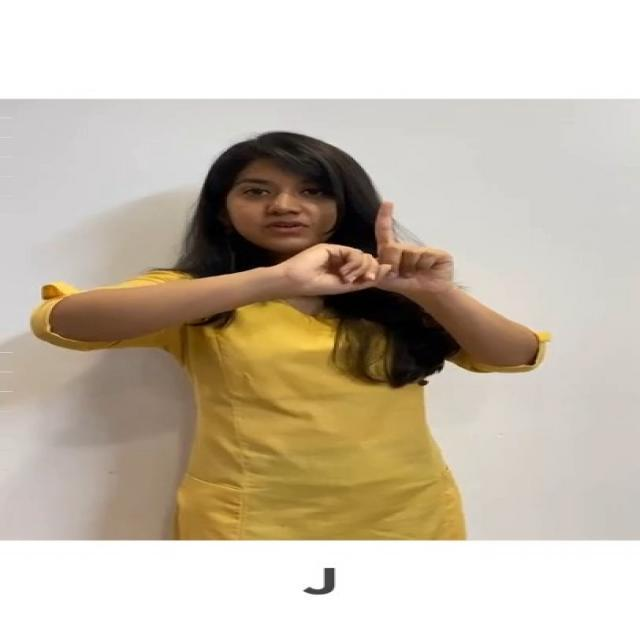J: (262, 192, 472, 314)
